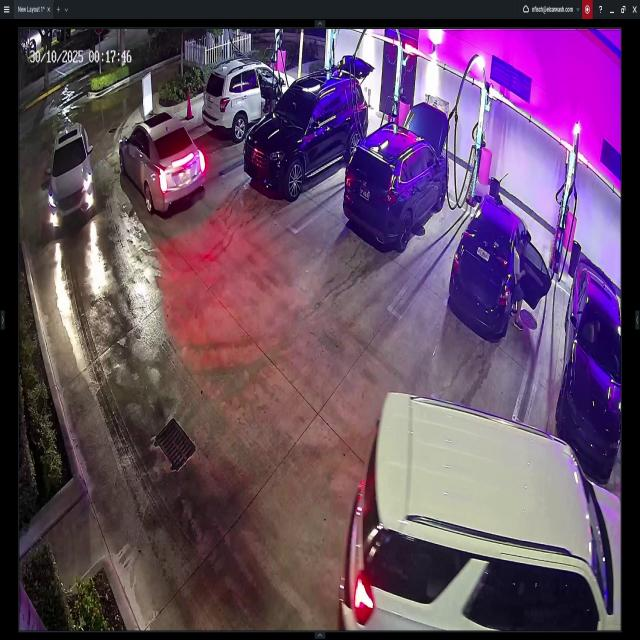Car: (338, 393, 622, 630), (245, 57, 372, 191), (558, 244, 623, 478), (447, 185, 550, 332), (345, 105, 449, 242), (114, 109, 205, 214), (207, 54, 296, 142), (44, 131, 94, 220)
